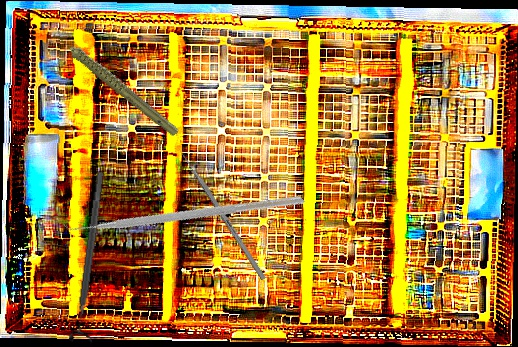Chopper: (54, 86, 306, 330)
Fixation Ring: (67, 169, 114, 345)
Handpiece: (53, 7, 181, 157)
Pusher: (173, 141, 267, 281)
